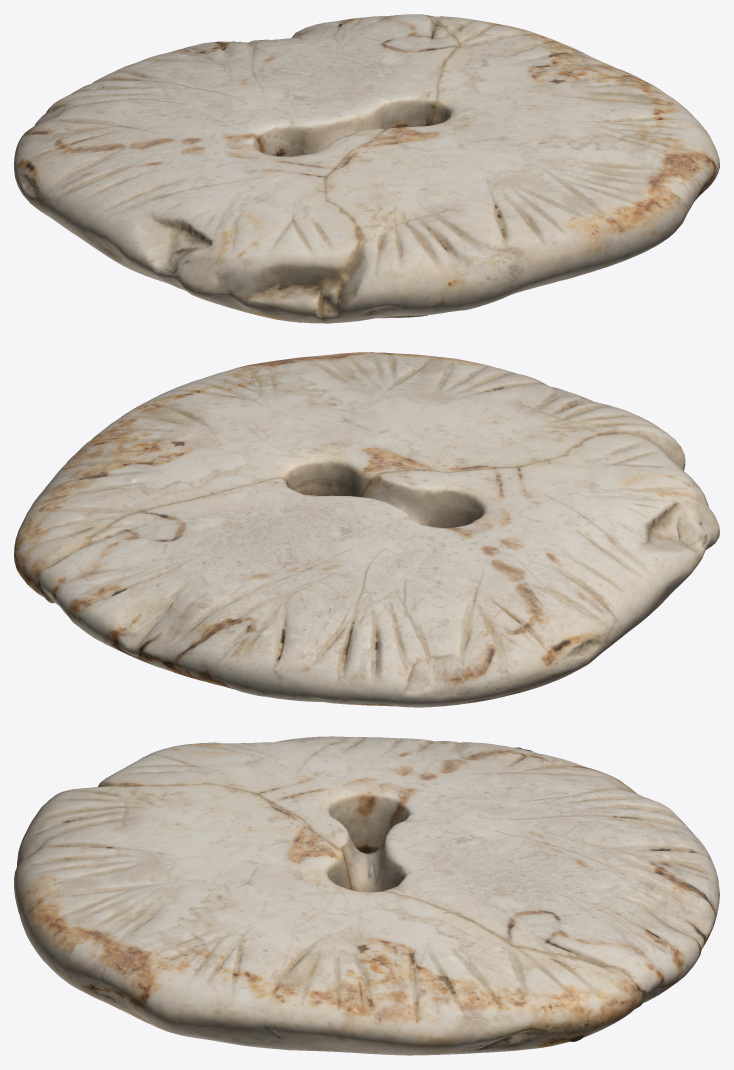
Rendered from Scheibe_25kTris_2x2kTex.gltf.
3 views of the same model, one above another, from view 1: azimuth 30°, elevation 25°; view 2: azimuth 150°, elevation 25°; view 3: azimuth 270°, elevation 25° (orthographic). The views are drawn at different scales.
Parts seen in each view (by area): view 1: Scheibe_25kTris_2x2kTex:default1; view 2: Scheibe_25kTris_2x2kTex:default1; view 3: Scheibe_25kTris_2x2kTex:default1.
Part boxes in pixels (x1,y1,x2,y2): Scheibe_25kTris_2x2kTex:default1: (14, 14, 719, 323); Scheibe_25kTris_2x2kTex:default1: (14, 352, 719, 707); Scheibe_25kTris_2x2kTex:default1: (14, 736, 719, 1055).
Size of the model in its own units: 0.0793 by 0.0133 by 0.0815.
Materials: 2 (2 with a texture image).
